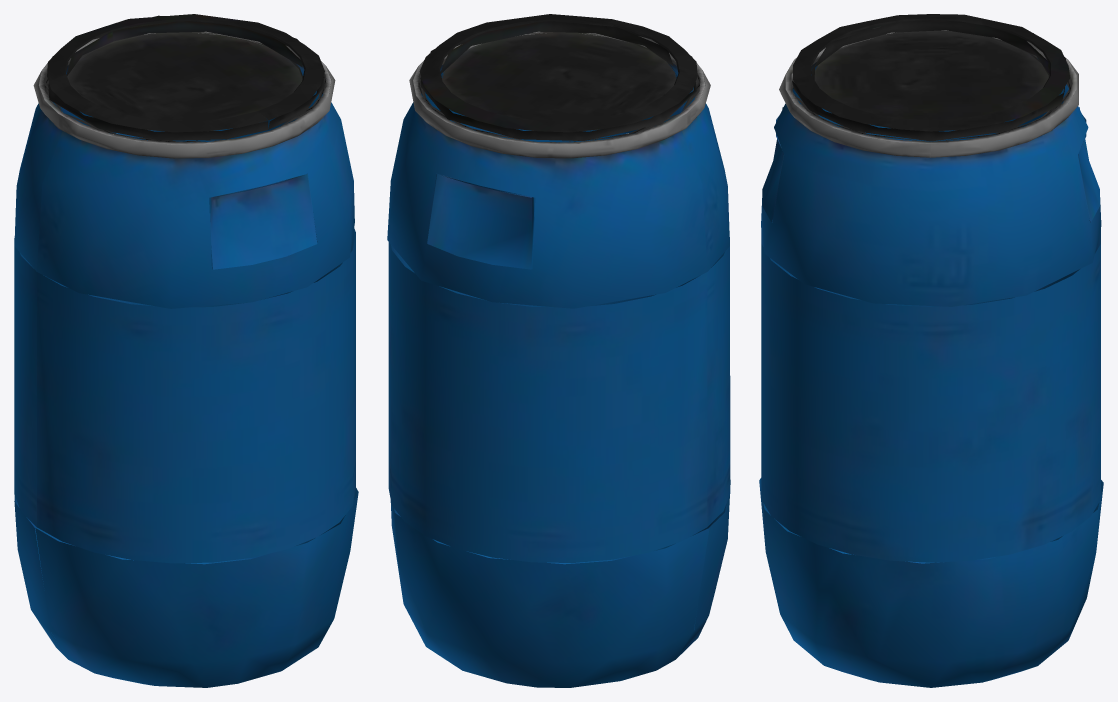
The model's file is drum_b.glb.
The picture shows the model from 3 angles, left to right: view 1: azimuth 30°, elevation 25°; view 2: azimuth 150°, elevation 25°; view 3: azimuth 270°, elevation 25°; orthographic projection.
Visible parts, largest first — view 1: Barrel_02; view 2: Barrel_02; view 3: Barrel_02.
Boxes of the visible parts, <box> form: Barrel_02: <box>14,14,358,687</box>; Barrel_02: <box>387,14,730,687</box>; Barrel_02: <box>759,14,1103,687</box>.
Size of the model in its own units: 0.494 by 0.8823 by 0.4905.
Materials: 1 (1 with a texture image).
